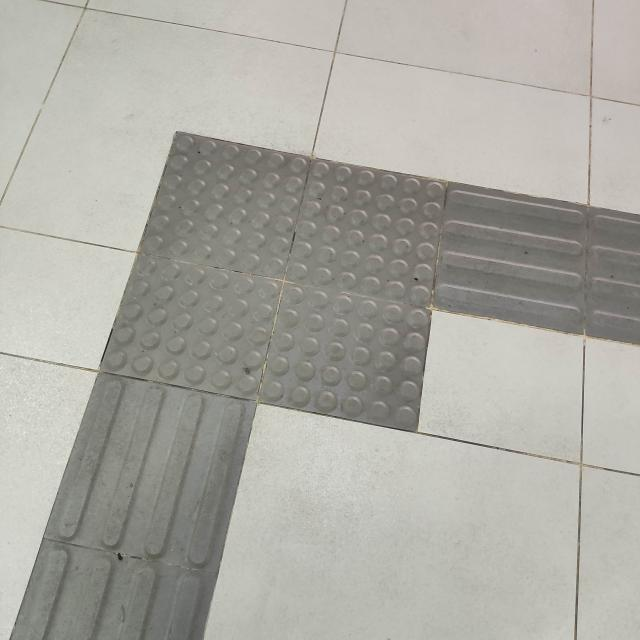kanan: (75, 114, 640, 486)
